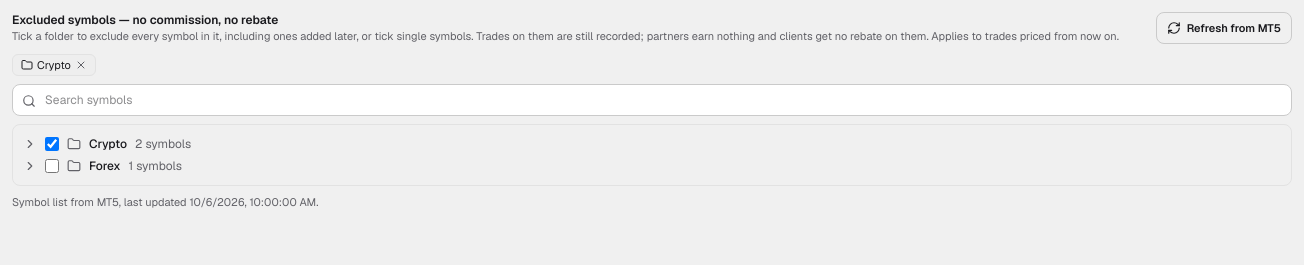
Test: SymbolExclusionPicker › a symbol inside an excluded folder shows ticked and cannot be unticked alone
# Wait for the TREE: "Crypto" is also on the "Currently excluded" chip, which renders first.
Click the button named "show or hide crypto". click: click(30, 144)
box: top-left (21, 135), bottom-right (39, 153)
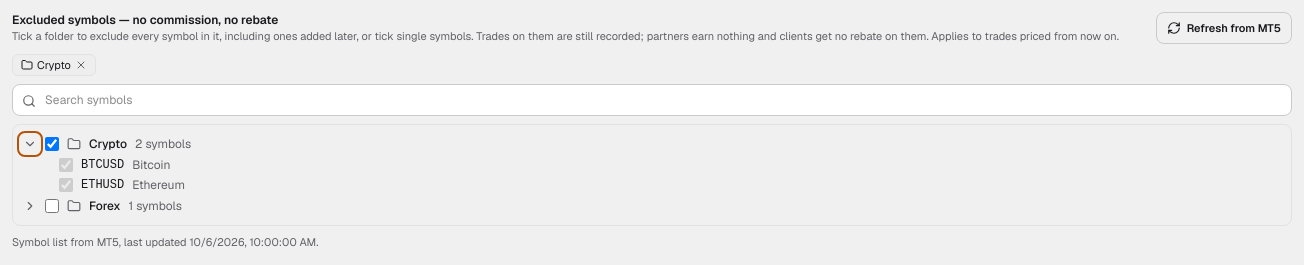
Check: the checkbox labelled "BTCUSD Bitcoin" is checked, box top-left (59, 158), bottom-right (73, 172)
Check: the checkbox labelled "BTCUSD Bitcoin" is disabled, box top-left (59, 158), bottom-right (73, 172)
